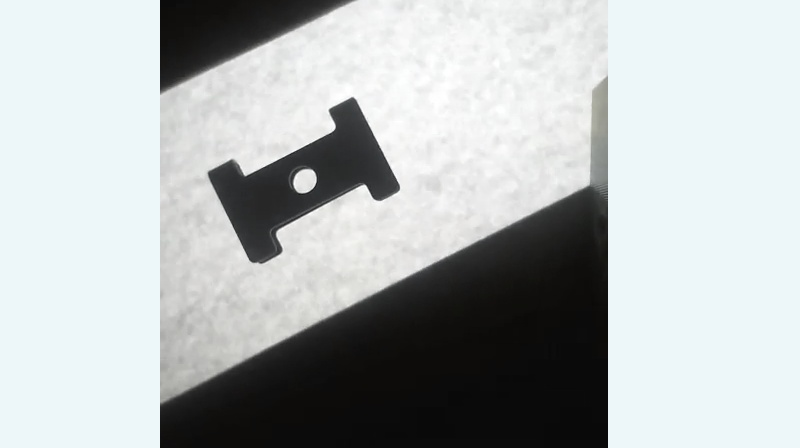O002: (207, 93, 403, 265)
